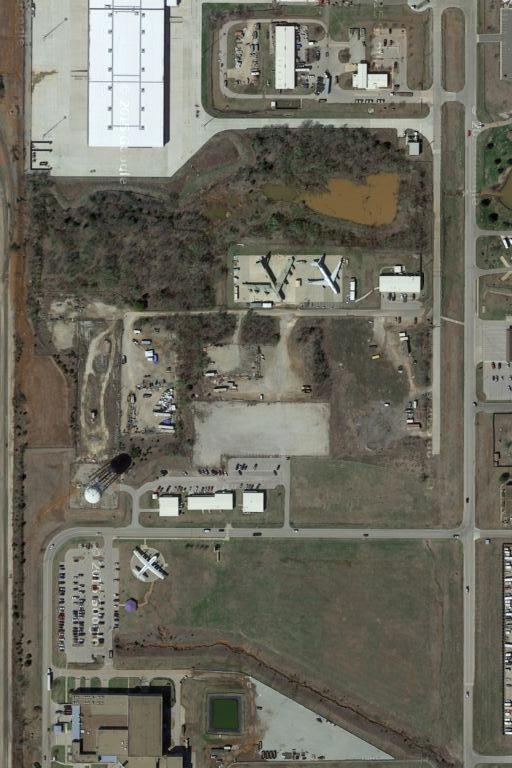B-52: (244, 250, 297, 303)
C-130: (130, 543, 166, 585)
KC-10: (303, 253, 348, 298)
